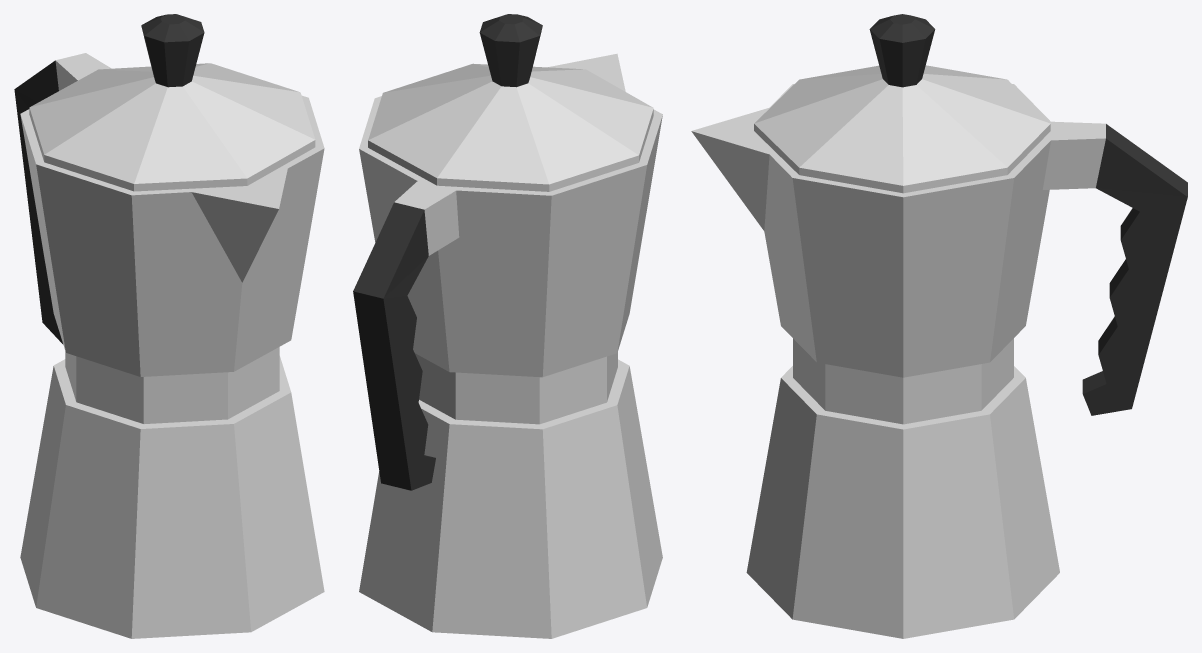
The model's file is espresso-pot.glb.
The picture shows the model from 3 angles, left to right: view 1: azimuth 30°, elevation 25°; view 2: azimuth 150°, elevation 25°; view 3: azimuth 270°, elevation 25°; orthographic projection.
Parts seen in each view (by area): view 1: Espresso_Pot; view 2: Espresso_Pot; view 3: Espresso_Pot.
Boxes of the visible parts, left/top/right/bottom form: Espresso_Pot: left=14, top=14, right=324, bottom=638; Espresso_Pot: left=353, top=14, right=662, bottom=638; Espresso_Pot: left=691, top=14, right=1187, bottom=638.
Size of the model in its own units: 45.77 by 89.13 by 72.5.
1 material, 1 textured.
